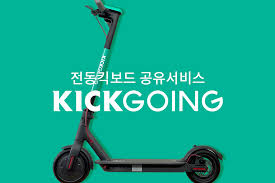kick_body: (109, 159, 185, 172)
kick_handler: (87, 1, 122, 25)
kick_wheel: (52, 145, 91, 183), (188, 146, 221, 182)
